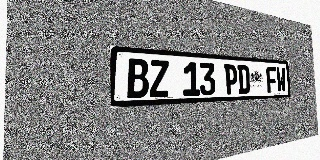1: (183, 61, 200, 96)
3: (199, 62, 215, 95)
B: (127, 58, 149, 98)
D: (237, 65, 250, 94)
F: (266, 66, 277, 93)
P: (224, 64, 238, 94)
W: (276, 67, 286, 92)
Z: (149, 59, 169, 97)
